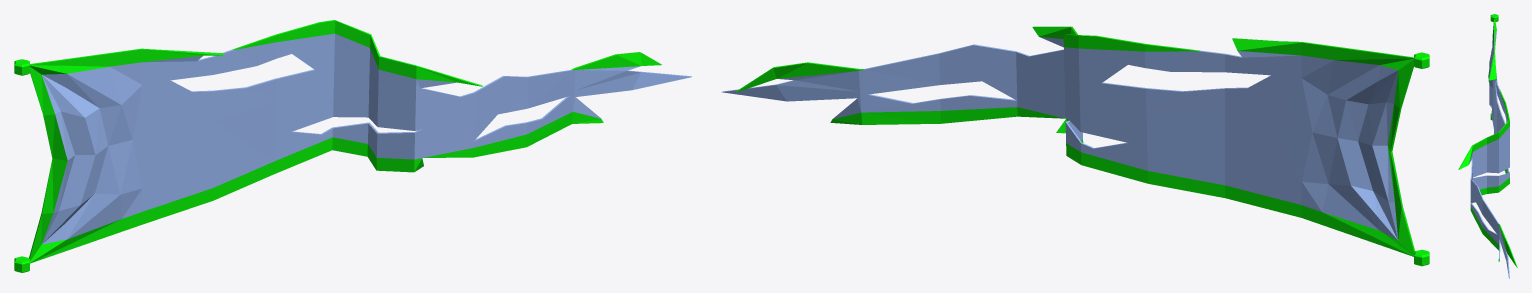
The model's file is SM_Flag_Triangle_E_Broken_Fantasy.fbx.
3 renders of one model, left to right at view 1: azimuth 30°, elevation 25°; view 2: azimuth 150°, elevation 25°; view 3: azimuth 270°, elevation 25°, orthographic. The views are drawn at different scales.
Visible parts, largest first — view 1: flag-triangle-e-broken-fantasy; view 2: flag-triangle-e-broken-fantasy; view 3: flag-triangle-e-broken-fantasy.
Boxes of the visible parts, left/top/right/bottom form: flag-triangle-e-broken-fantasy: left=14, top=20, right=691, bottom=272; flag-triangle-e-broken-fantasy: left=721, top=26, right=1429, bottom=266; flag-triangle-e-broken-fantasy: left=1458, top=14, right=1517, bottom=278.
Bounding box in the file's own units: 3.96 × 1.14 × 0.5909.
